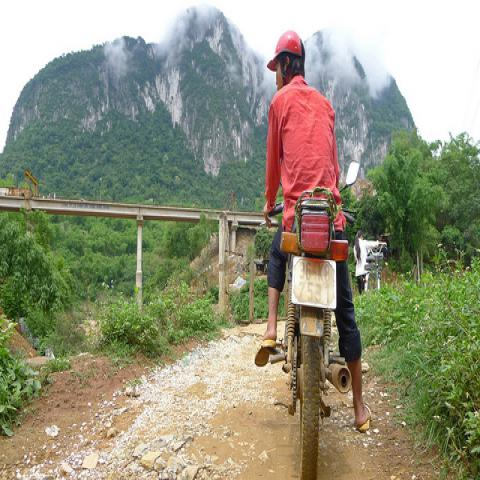motorcycle: (269, 195, 354, 479)
